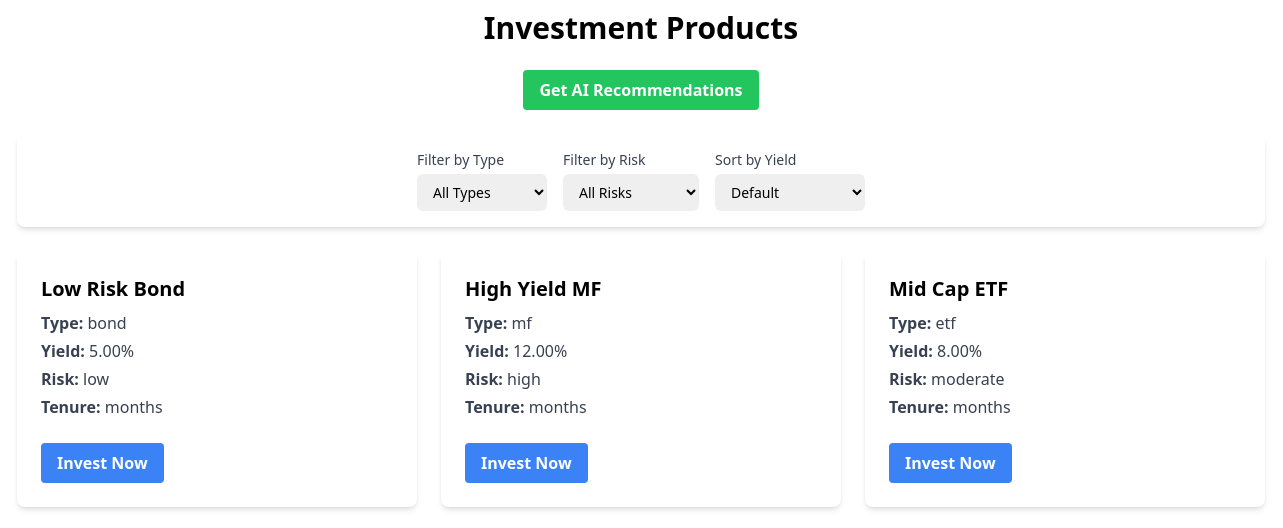
Test: ProductsPage › filters products by type
Expected: the heading "Low Risk Bond" is shown, x1=41 y1=275 x2=185 y2=302
Step 1. Select "Bond" in the dropdown labelled "Filter by Type" → (482, 192), box x1=417 y1=174 x2=547 y2=211
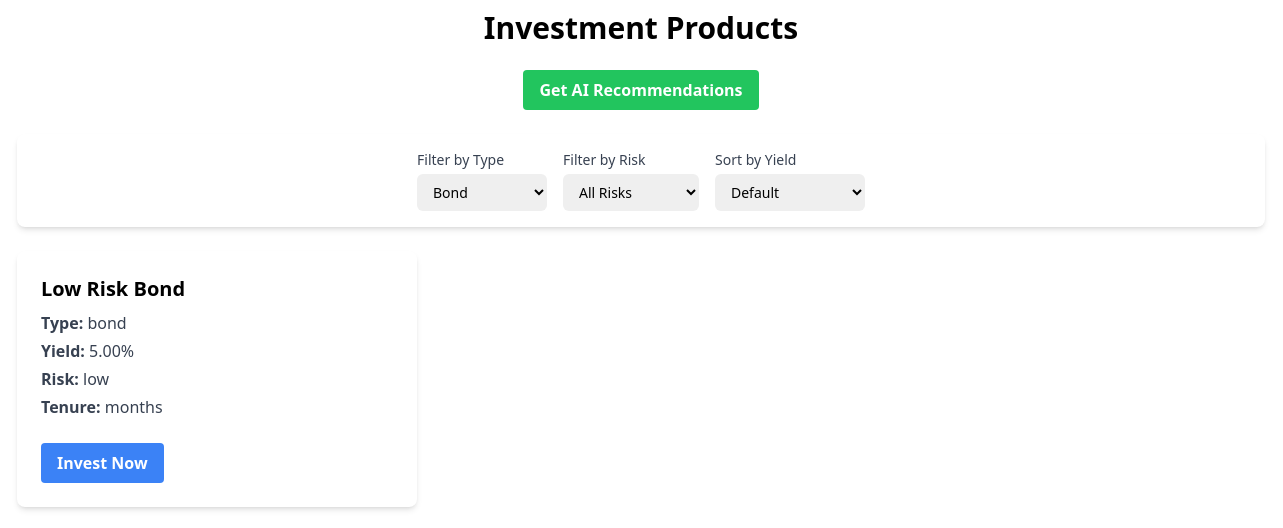
Expected: the heading "Low Risk Bond" is shown, x1=41 y1=275 x2=185 y2=302
Expected: the heading "High Yield MF" is gone
Expected: the heading "Mid Cap ETF" is gone
